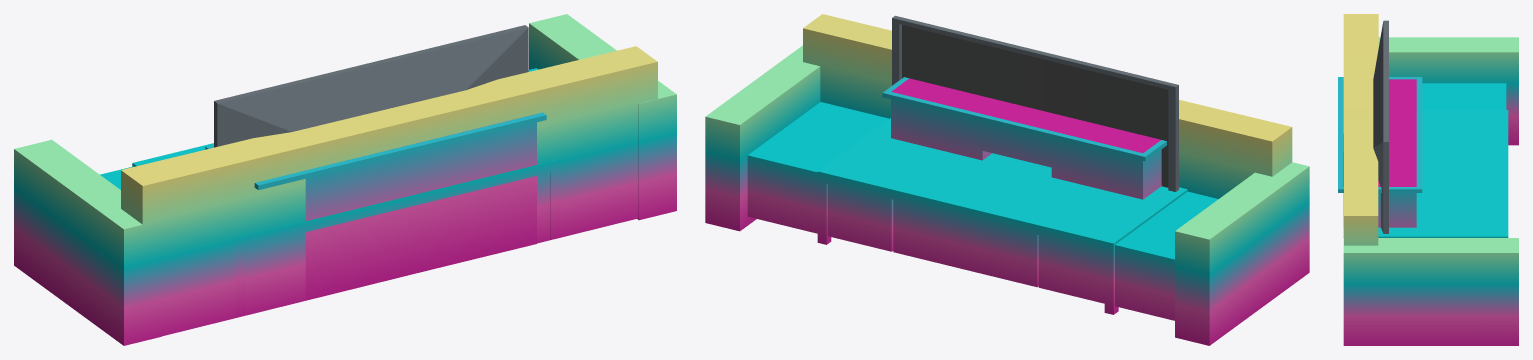
File: Furniture.fbx
3 views of the same model, side by side, from view 1: azimuth 30°, elevation 25°; view 2: azimuth 150°, elevation 25°; view 3: azimuth 270°, elevation 25° (orthographic). The views are drawn at different scales.
Visible parts, largest first — view 1: Couch, TvStand, Tv, Table; view 2: Couch, Table, Tv, TvStand; view 3: Couch, Table, TvStand, Tv.
Part boxes in pixels (x1,y1,x2,y2): Couch: [14, 14, 676, 345]; TvStand: [205, 112, 546, 300]; Tv: [214, 25, 528, 147]; Table: [132, 143, 560, 316]; Couch: [705, 14, 1309, 345]; Table: [817, 118, 1187, 314]; Tv: [892, 15, 1178, 191]; TvStand: [882, 77, 1166, 199]; Couch: [1343, 14, 1518, 345]; Table: [1343, 110, 1508, 237]; TvStand: [1338, 77, 1422, 227]; Tv: [1373, 20, 1388, 233].
Size of the model in its own units: 277 by 93.32 by 98.17.
